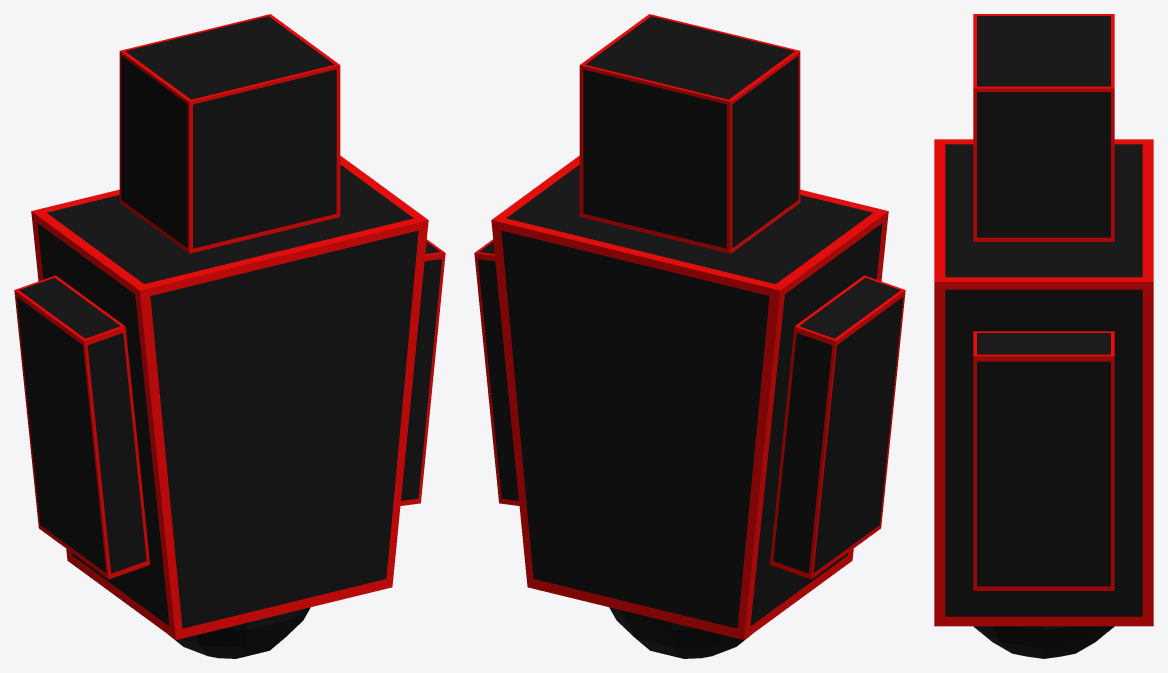
The model's file is VirusEnemy.fbx.
The picture shows the model from 3 angles, left to right: view 1: azimuth 30°, elevation 25°; view 2: azimuth 150°, elevation 25°; view 3: azimuth 270°, elevation 25°; orthographic projection.
Parts seen in each view (by area): view 1: pCube6; view 2: pCube6; view 3: pCube6.
Part boxes in pixels (x1,y1,x2,y2): pCube6: (14, 14, 445, 658); pCube6: (474, 14, 905, 658); pCube6: (934, 14, 1153, 658).
Bounding box in the file's own units: 131 × 205 × 67.94.
